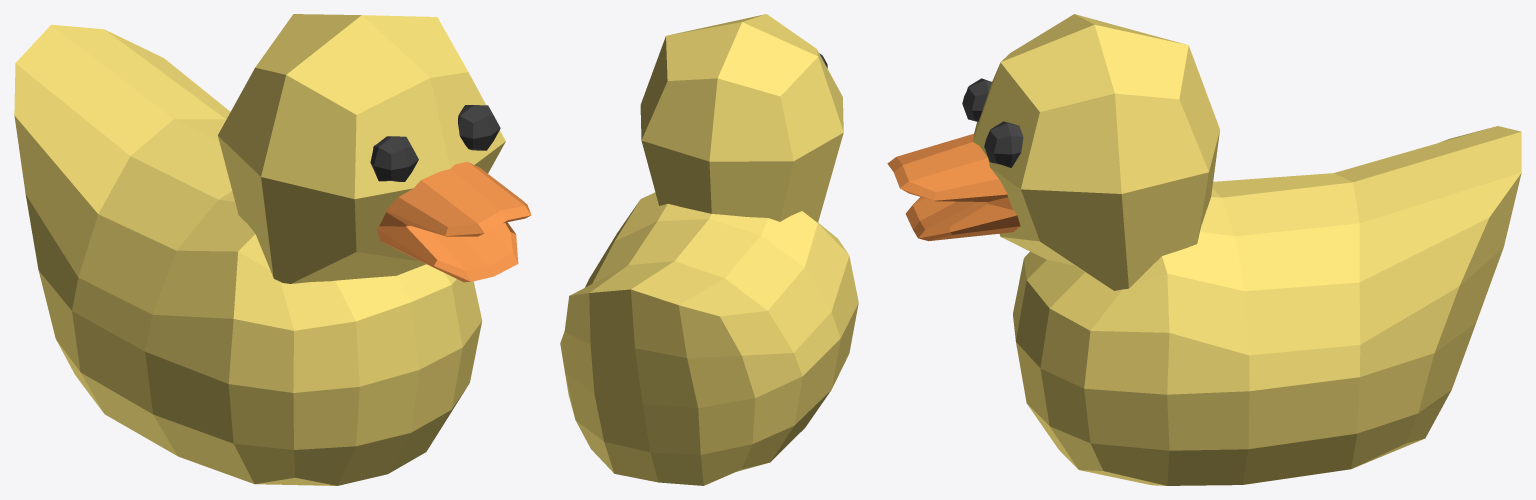
The model's file is Duck.fbx.
3 renders of one model, left to right at view 1: azimuth 30°, elevation 25°; view 2: azimuth 150°, elevation 25°; view 3: azimuth 270°, elevation 25°, orthographic. The views are drawn at different scales.
Parts seen in each view (by area): view 1: Duck; view 2: Duck; view 3: Duck.
Part boxes in pixels (x1,y1,x2,y2): Duck: [14, 14, 531, 485]; Duck: [560, 14, 858, 485]; Duck: [887, 14, 1521, 485].
Bounding box in the file's own units: 15.03 × 27.97 × 21.68.
